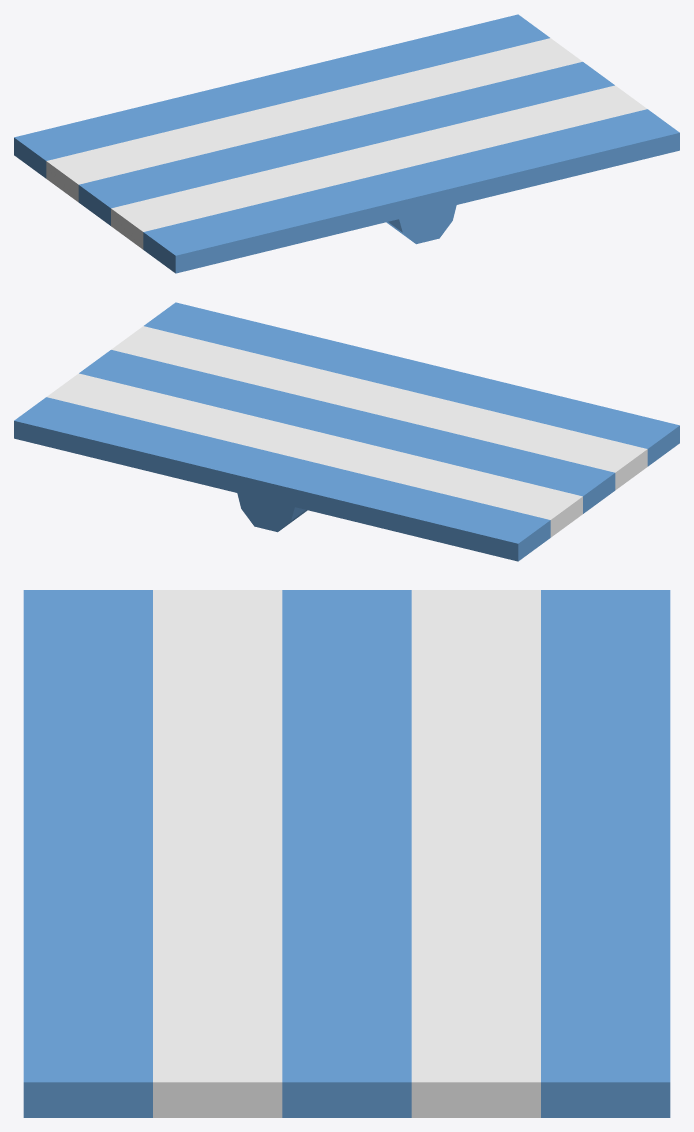
File: Seesaw2.fbx
3 views of the same model, one above another, from view 1: azimuth 30°, elevation 25°; view 2: azimuth 150°, elevation 25°; view 3: azimuth 270°, elevation 25° (orthographic). The views are drawn at different scales.
Visible parts, largest first — view 1: Cube; view 2: Cube; view 3: Cube.
Boxes of the visible parts, left/top/right/bottom form: Cube: left=14, top=14, right=679, bottom=273; Cube: left=14, top=302, right=679, bottom=561; Cube: left=23, top=590, right=670, bottom=1117.
Bounding box in the file's own units: 1800 × 161 × 1000.
